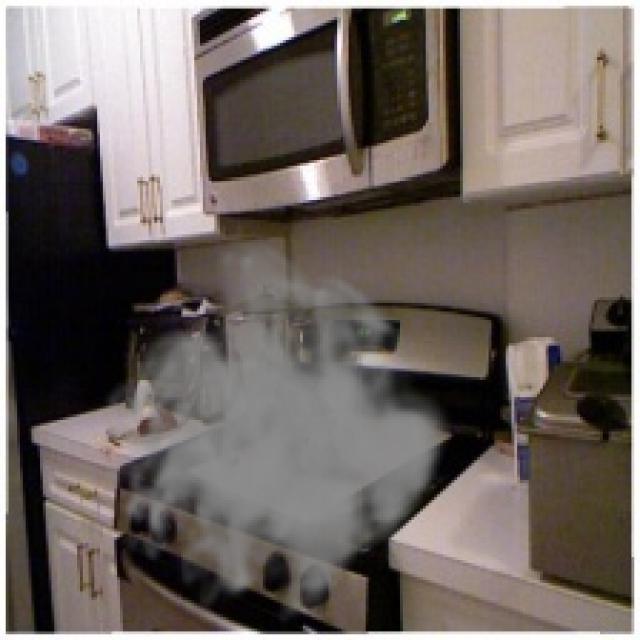Smoke: (102, 235, 452, 634)
